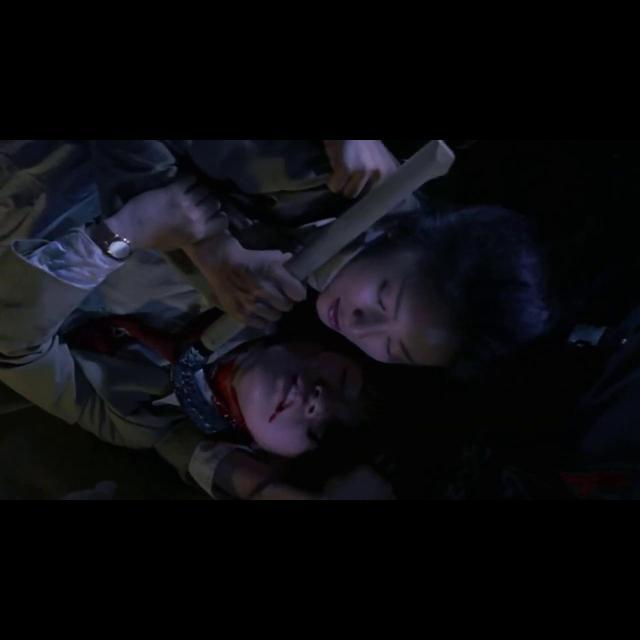blood: (204, 351, 298, 440)
